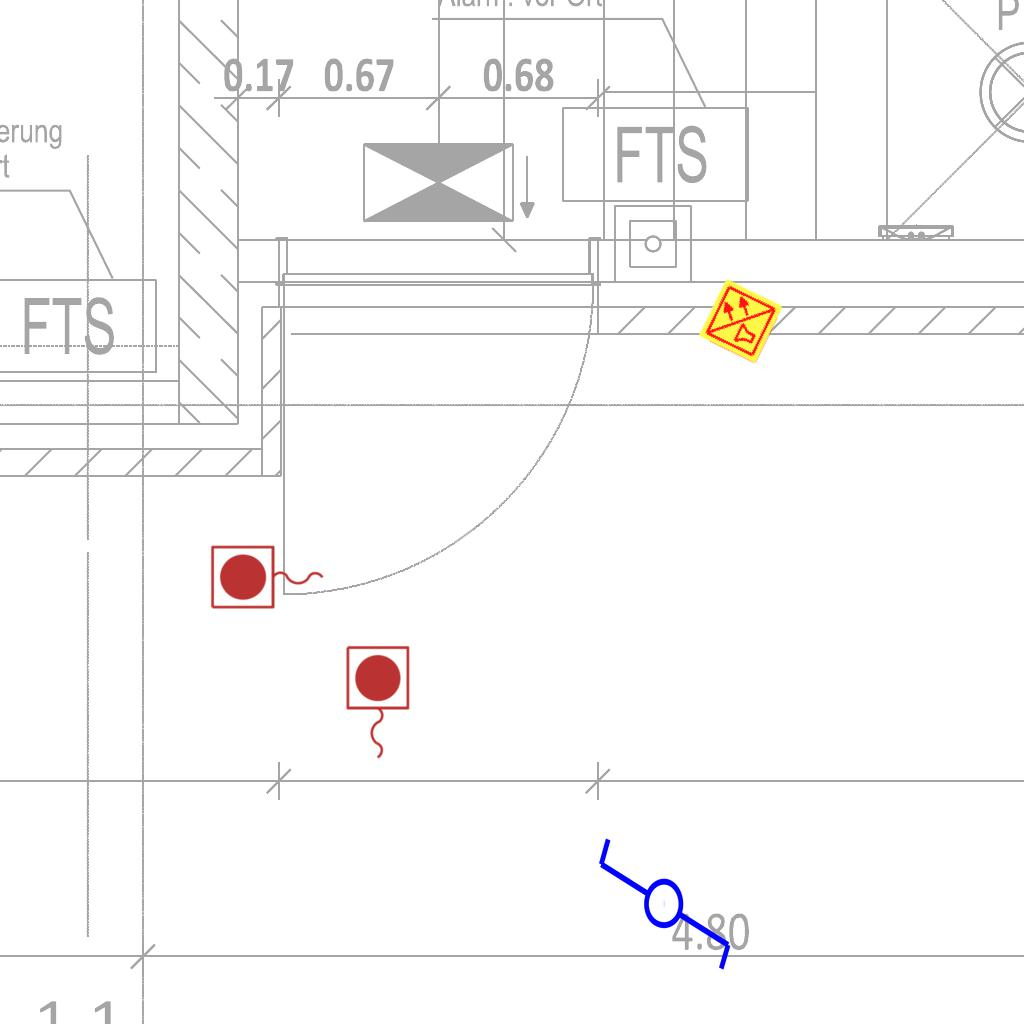OKW_Multisensormelder_(Kombination_optischer_Rauch-Kahlenmonoxid_Waerme-Melder): (696, 276, 786, 366)
Wechselschalter: (594, 817, 738, 974)
Zugtaster: (341, 642, 413, 764), (207, 542, 329, 614)
